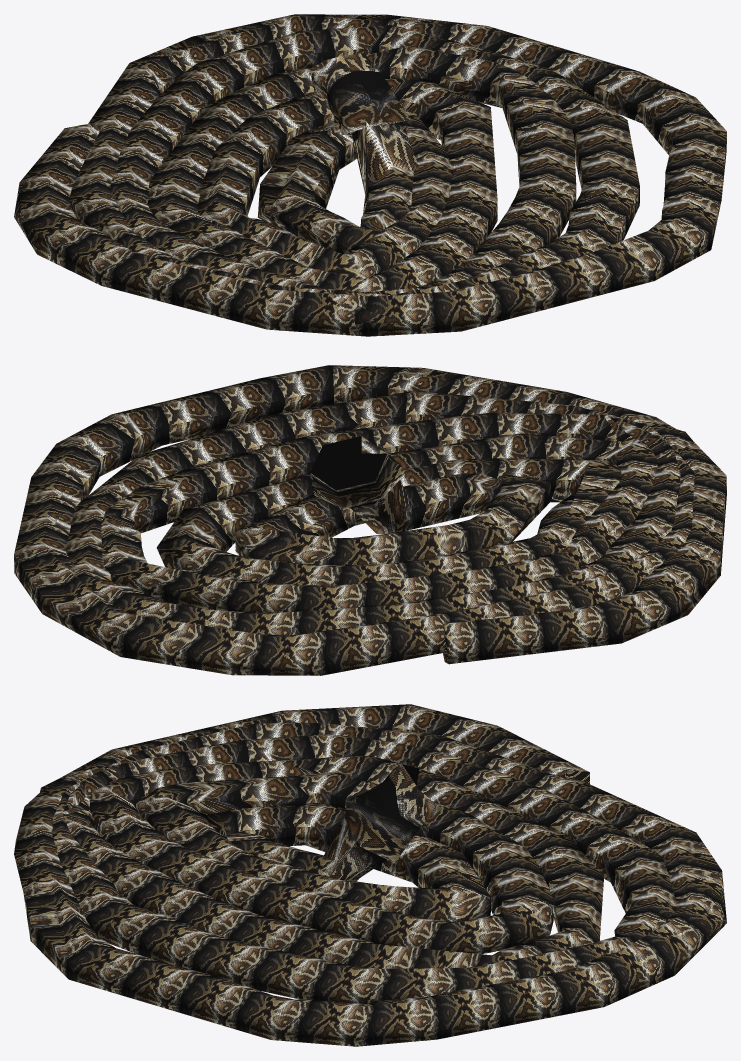
The model's file is snakewanim.fbx.
3 renders of one model, top to bottom at view 1: azimuth 30°, elevation 25°; view 2: azimuth 150°, elevation 25°; view 3: azimuth 270°, elevation 25°, orthographic.
Visible parts, largest first — view 1: snakeBrown1Main; view 2: snakeBrown1Main; view 3: snakeBrown1Main.
Boxes of the visible parts, left/top/right/bottom form: snakeBrown1Main: left=14, top=14, right=726, bottom=336; snakeBrown1Main: left=14, top=365, right=726, bottom=675; snakeBrown1Main: left=14, top=704, right=726, bottom=1046.
Bounding box in the file's own units: 3.78 × 0.7436 × 3.64.
